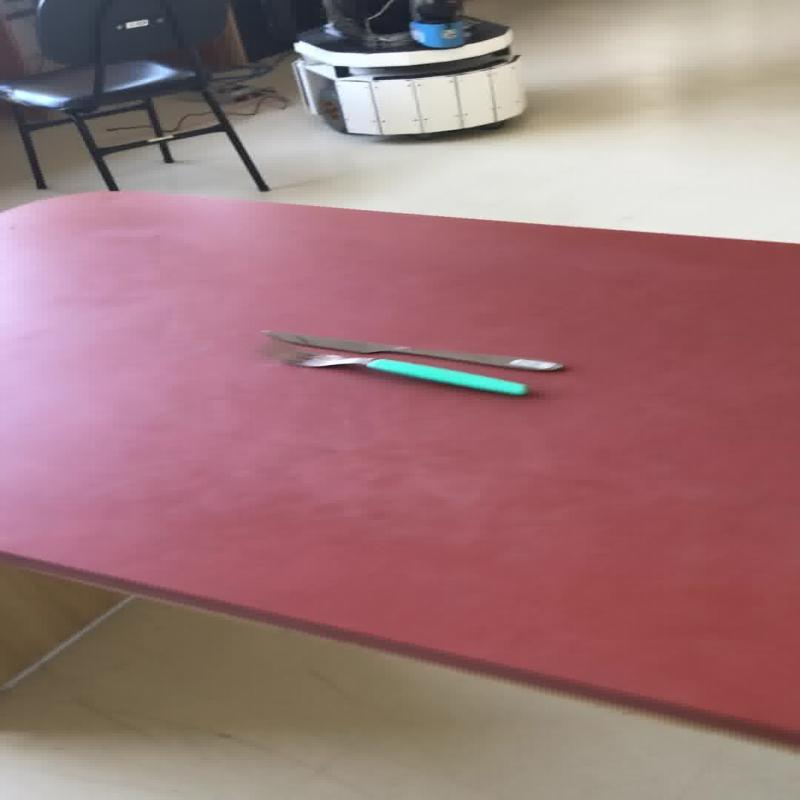fork: (284, 351, 380, 368)
knife: (259, 328, 565, 372), (285, 350, 528, 396)
